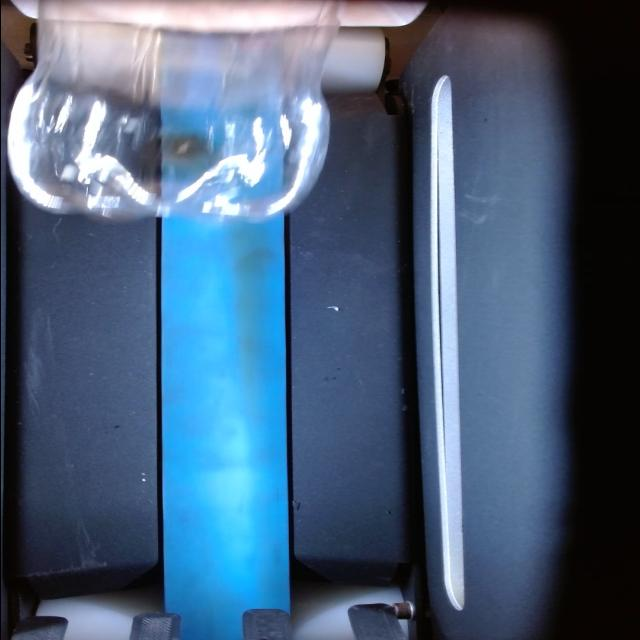bottom: (0, 138, 339, 227)
